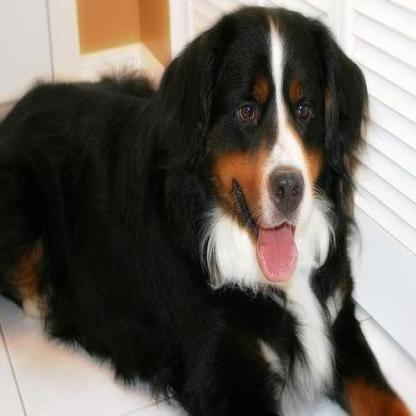Bernese_mountain_dog: (0, 5, 414, 413)
